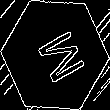M_SW: (25, 23, 85, 87)
